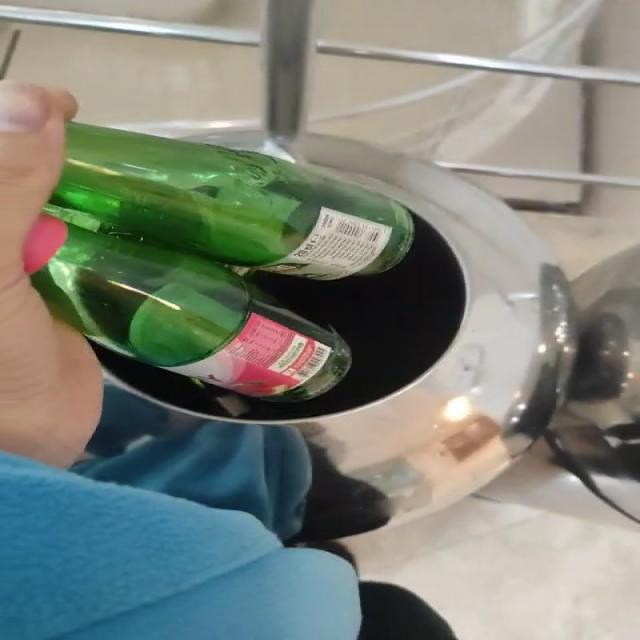glass: (32, 123, 415, 401)
